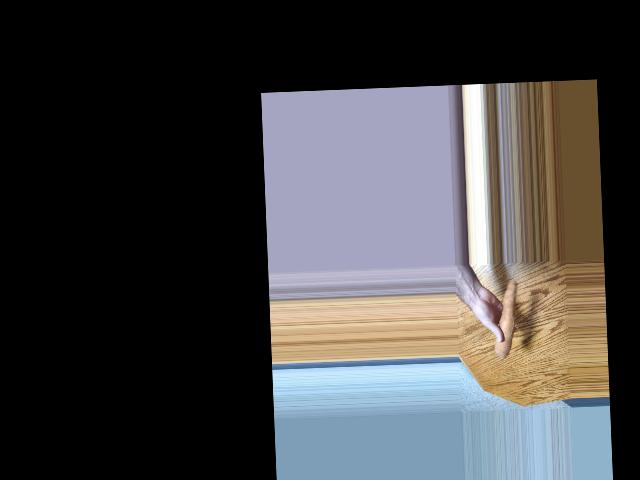sweet_potato: (498, 280, 516, 357)
